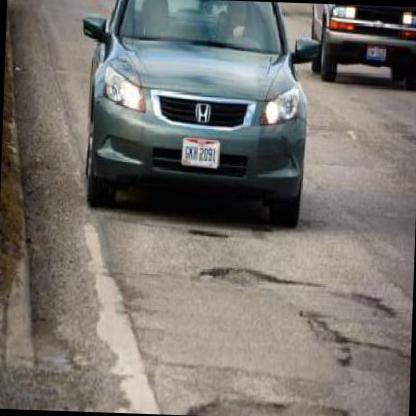pothole: (181, 394, 358, 416), (196, 262, 276, 292)
